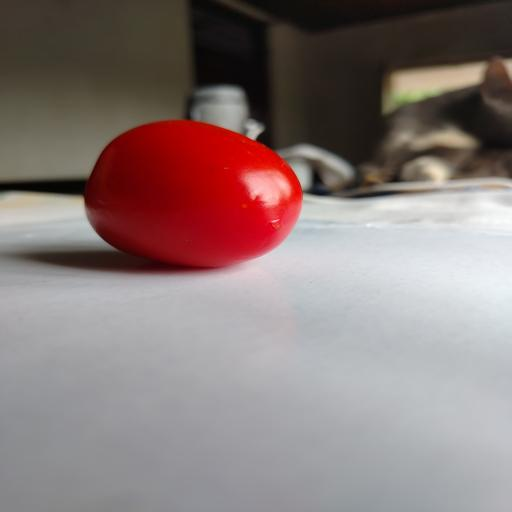ripe: (85, 120, 302, 266)
